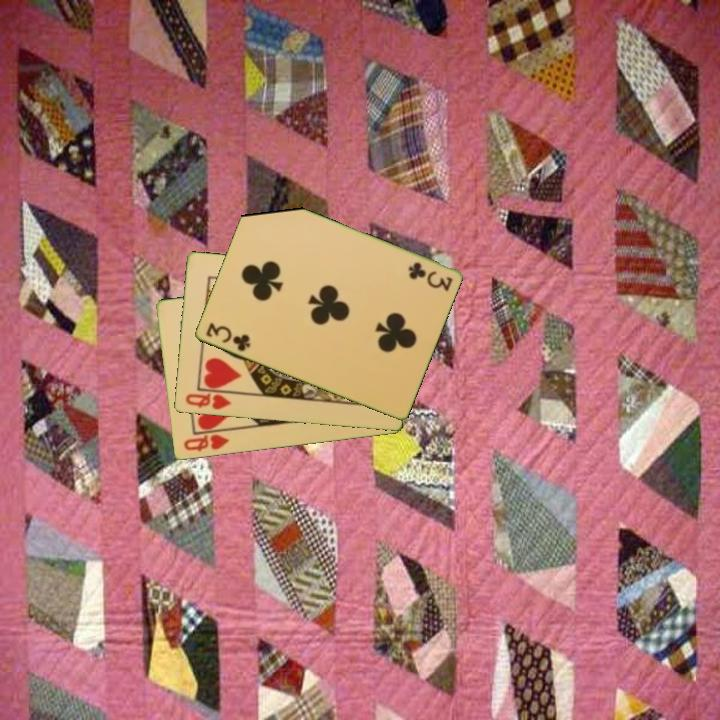3c: (202, 319, 253, 355), (404, 259, 455, 294)
Qh: (180, 431, 232, 455), (182, 390, 234, 413)
